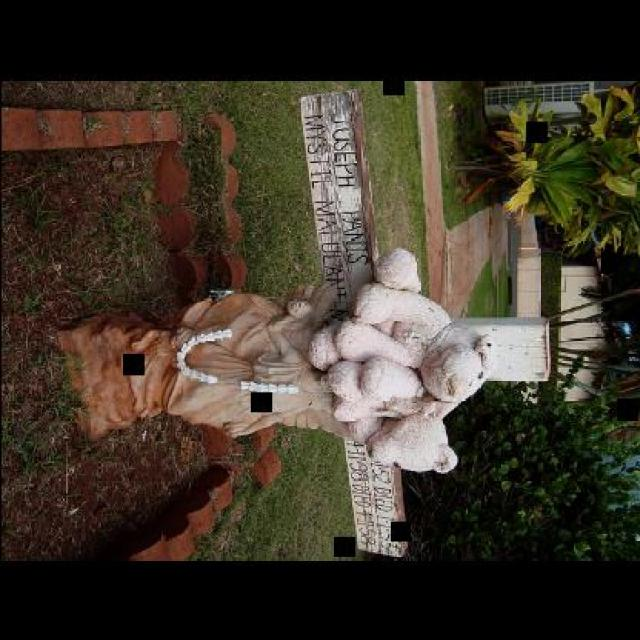unauthorized: (54, 247, 491, 476)
